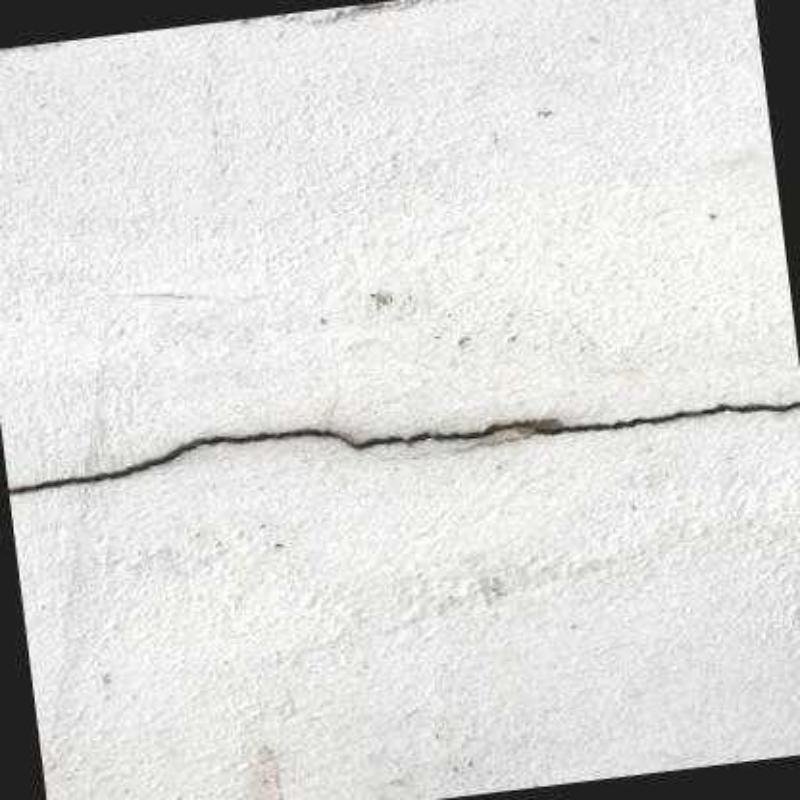pothole: (9, 402, 800, 497)
